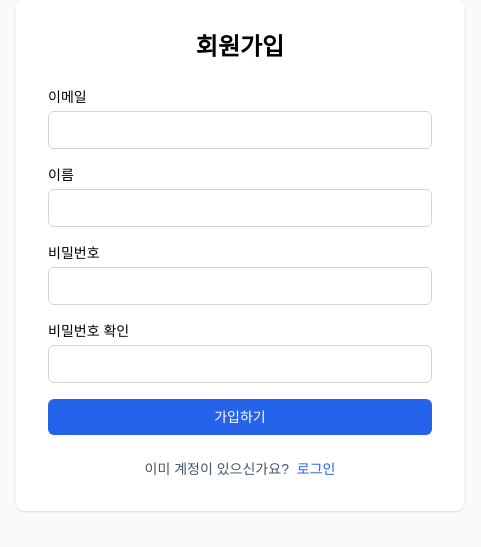
Test: RegisterView › 이메일 형식이 잘못되면 오류 메시지를 표시한다
In the field with id "reg-email": (240, 130) 48,111 -> 432,149, type "invalid-email"
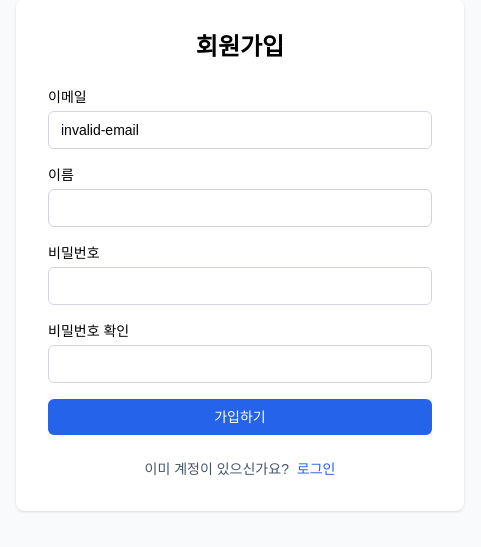
In the field with id "reg-name": (240, 208) 48,189 -> 432,227, type "홍길동"
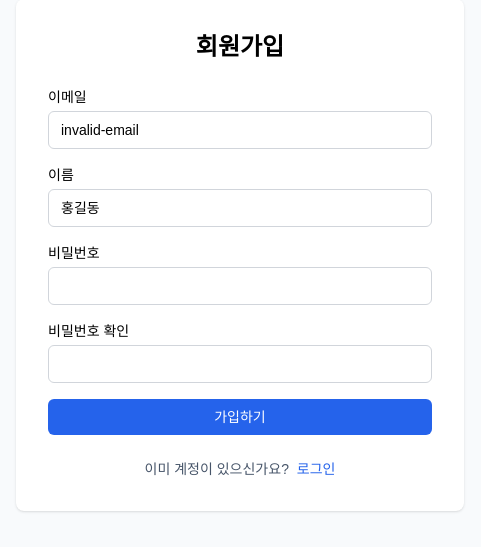
In the password field with id "reg-password": (240, 286) 48,267 -> 432,305, type "password123"
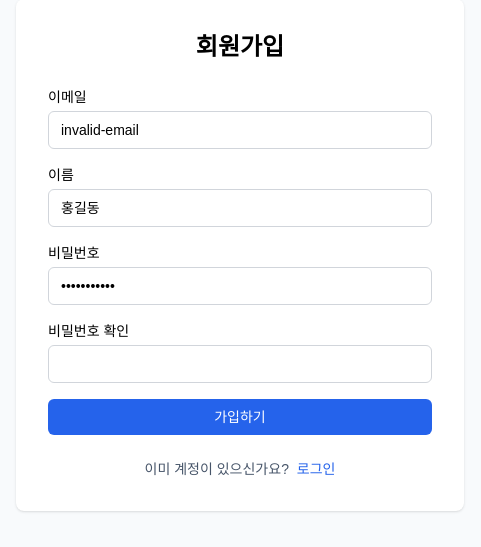
In the password field with id "reg-password-confirm": (240, 364) 48,345 -> 432,383, type "password123"
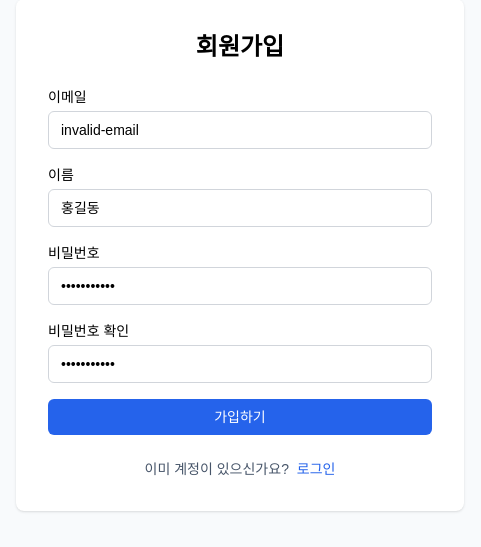
Submit the form, box 48,87 -> 432,435
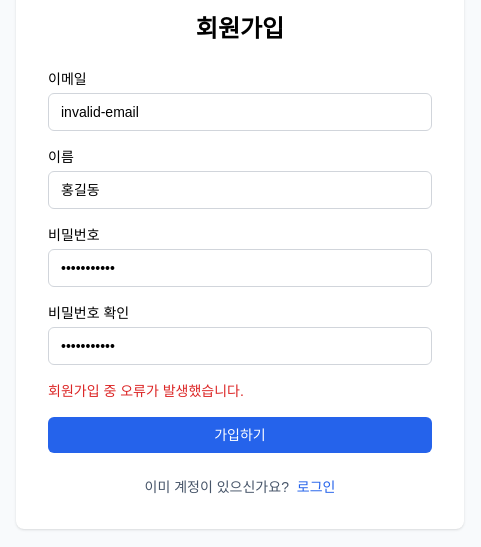
Result: the message "회원가입 중 오류가 발생했습니다." is shown at 48,383 -> 244,399
